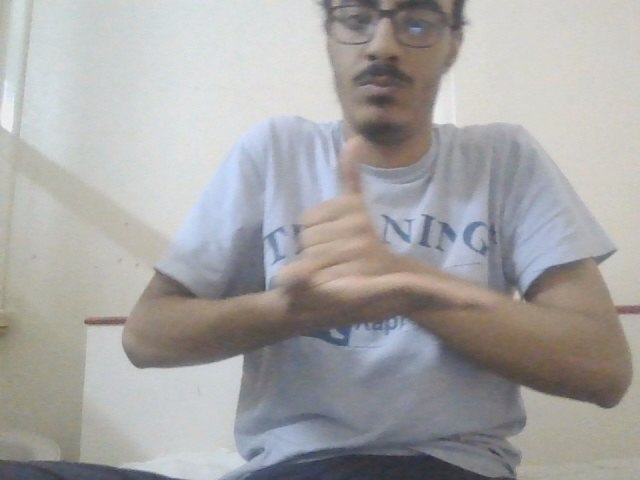Help: (265, 130, 487, 350)
